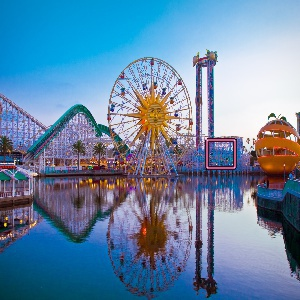square: (204, 137, 237, 170)
